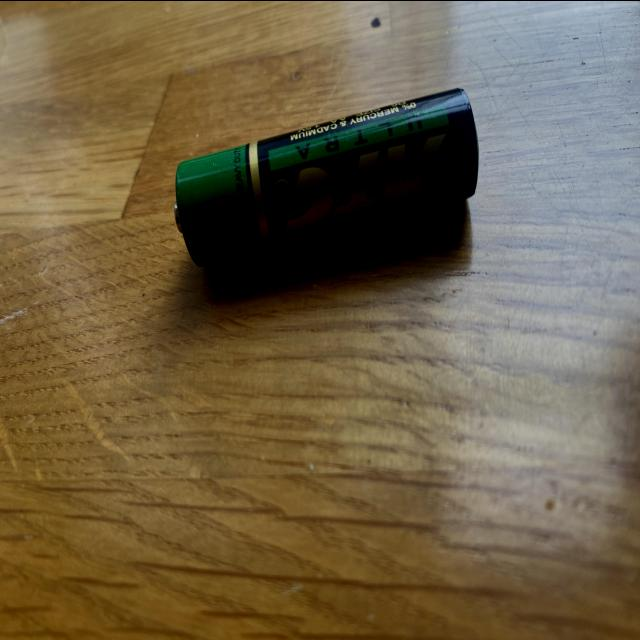AA: (169, 80, 484, 270)
